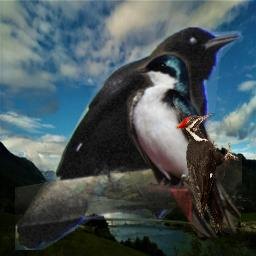Crow: (15, 27, 242, 250)
Swallow: (126, 51, 241, 237)
Woodpecker: (175, 113, 239, 233)
